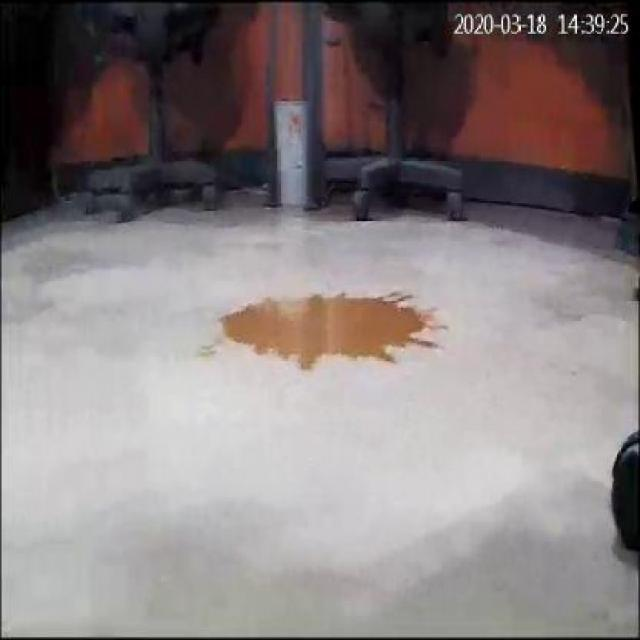spill: (209, 286, 446, 379)
